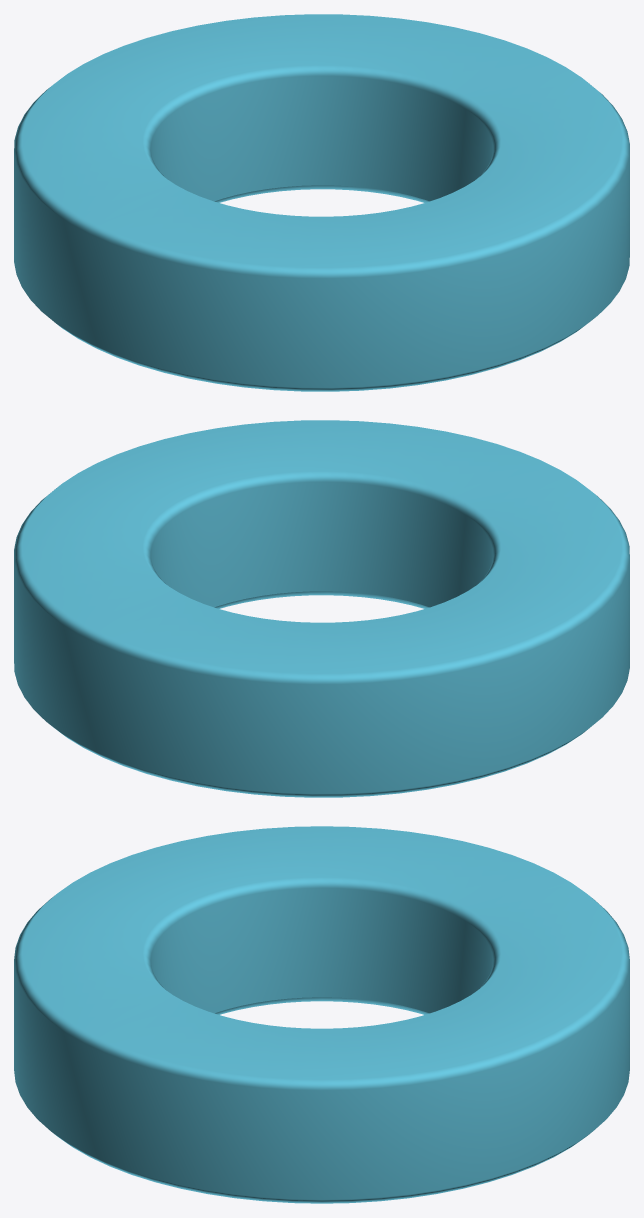
3 renders of one model, top to bottom at view 1: azimuth 30°, elevation 25°; view 2: azimuth 150°, elevation 25°; view 3: azimuth 270°, elevation 25°, orthographic.
Visible parts, largest first — view 1: seal_body; view 2: seal_body; view 3: seal_body.
Boxes of the visible parts, x1=… form: seal_body: x1=14, y1=14, x2=629, y2=391; seal_body: x1=14, y1=420, x2=629, y2=797; seal_body: x1=14, y1=826, x2=629, y2=1203.
Bounding box in the file's own units: 0.0286 × 0.00635 × 0.0286.
